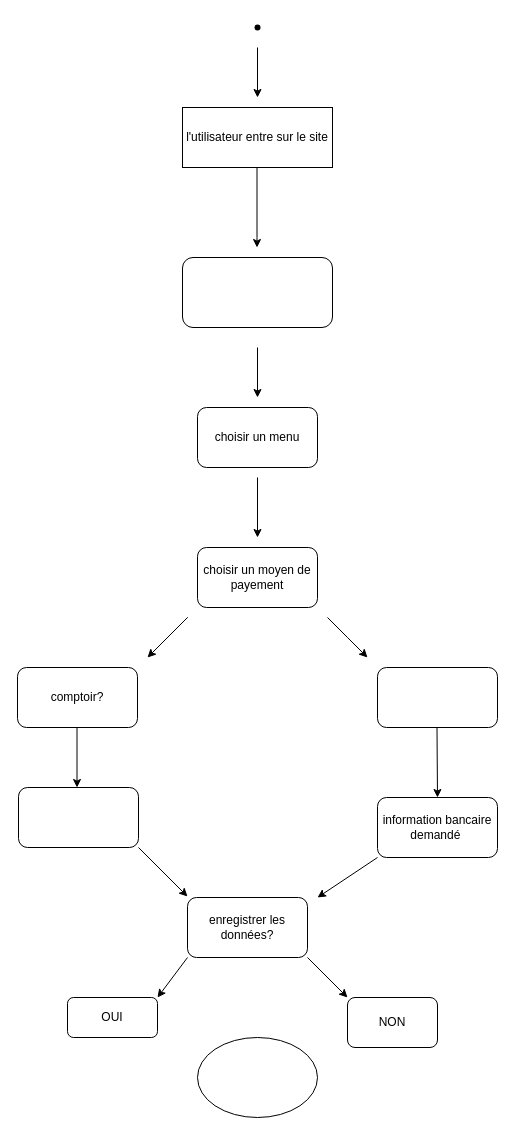
Image size: 515x1135. Some labels were removed from this diagram. Each missing label, with the centre of its shape:
"carte bancaire?" goes at pixel 437 697.
"FIN" goes at pixel 257 1077.
"localisation demandé" goes at pixel 78 817.
"rechercher un produit" goes at pixel 257 292.
